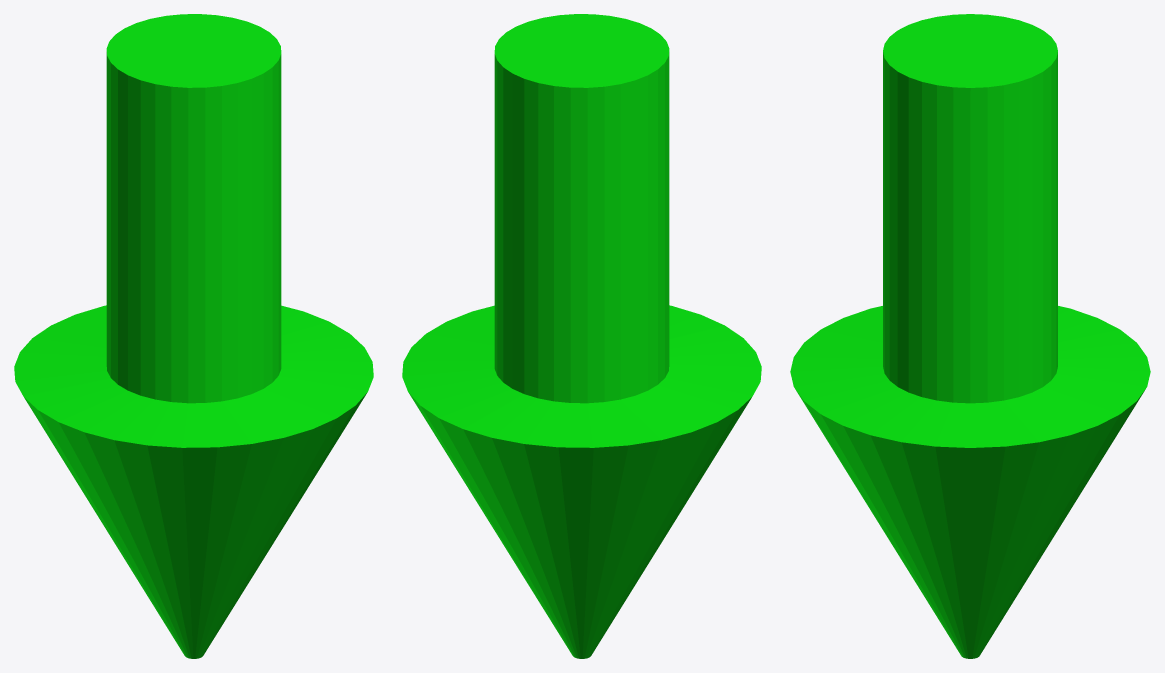
Rendered from Arrow.glb.
3 views of the same model, side by side, from view 1: azimuth 30°, elevation 25°; view 2: azimuth 150°, elevation 25°; view 3: azimuth 270°, elevation 25° (orthographic).
Parts seen in each view (by area): view 1: Cylinder; view 2: Cylinder; view 3: Cylinder.
Boxes of the visible parts, bbox=[...] form: Cylinder: bbox=[14, 14, 373, 658]; Cylinder: bbox=[402, 14, 761, 658]; Cylinder: bbox=[790, 14, 1150, 658].
Bounding box in the file's own units: 4.11 × 7.61 × 4.11.
